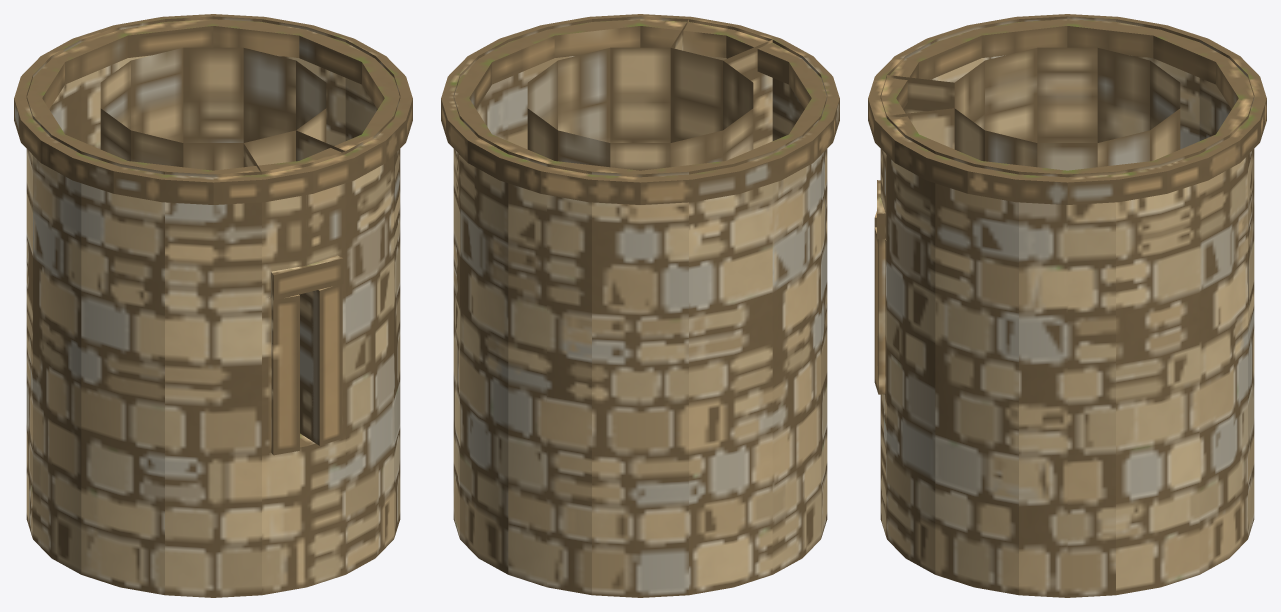
The model's file is Kit_Keep_Turret.fbx.
3 renders of one model, left to right at view 1: azimuth 30°, elevation 25°; view 2: azimuth 150°, elevation 25°; view 3: azimuth 270°, elevation 25°, orthographic.
Visible parts, largest first — view 1: Kit_Keep_Turret_LOD0; view 2: Kit_Keep_Turret_LOD0; view 3: Kit_Keep_Turret_LOD0.
Boxes of the visible parts, box(x1,y1,x2,y2) form: Kit_Keep_Turret_LOD0: box(14, 14, 412, 597); Kit_Keep_Turret_LOD0: box(441, 14, 839, 597); Kit_Keep_Turret_LOD0: box(868, 14, 1266, 597).
Size of what is drawn, in the model's own units: 2.56 by 3 by 2.56.
Materials: 1 (1 with a texture image).
